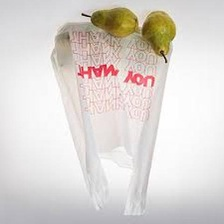plastic_bag: (48, 18, 175, 218)
